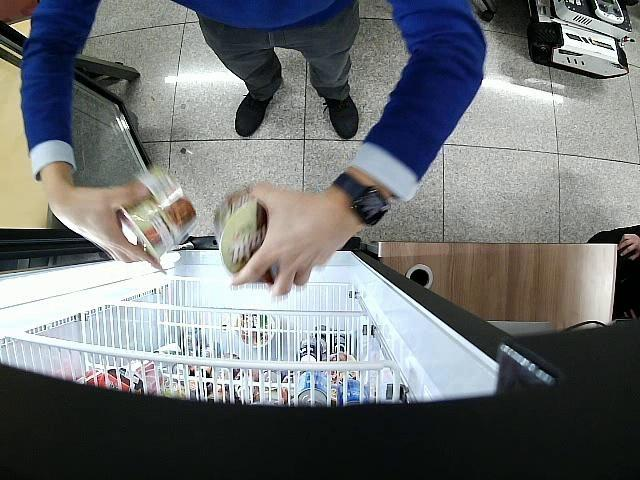03_chapagetti_L: (118, 165, 200, 261), (213, 187, 280, 284)
